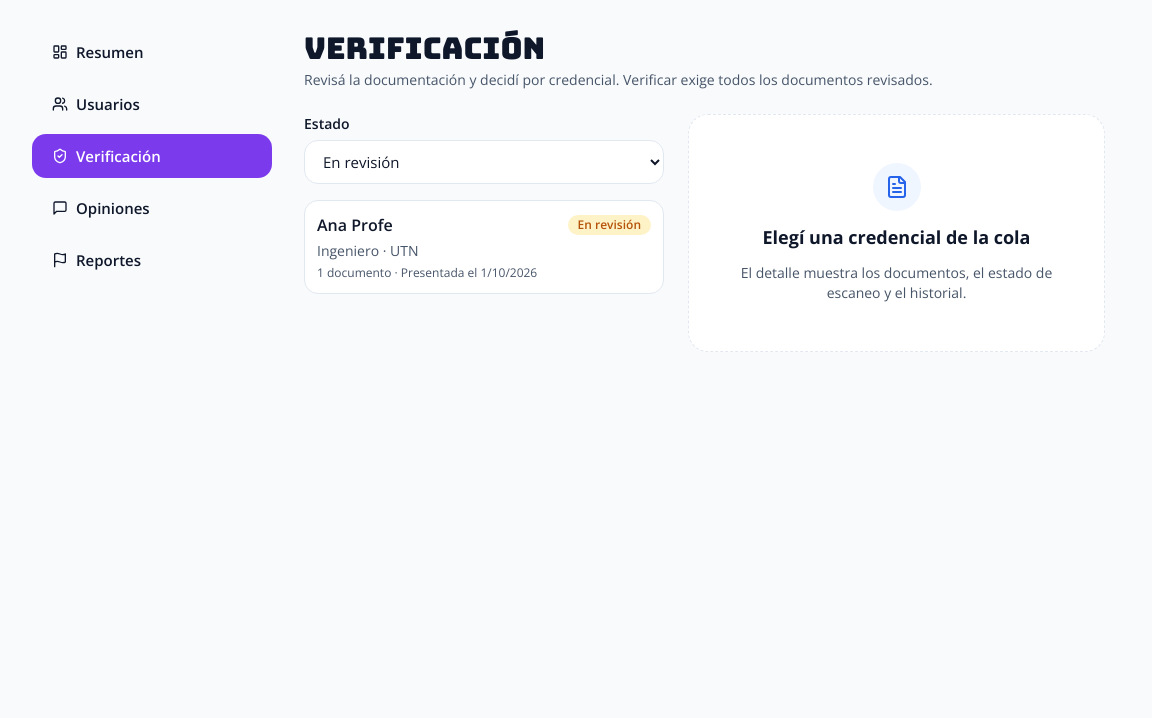
it: AdminVerificationsPage › blocks VERIFIED while a document is unreviewed
This screenshot has width=1152, height=718.
Click the button "Ana Profe" at x=355, y=225, box x1=304 y1=200 x2=664 y2=294
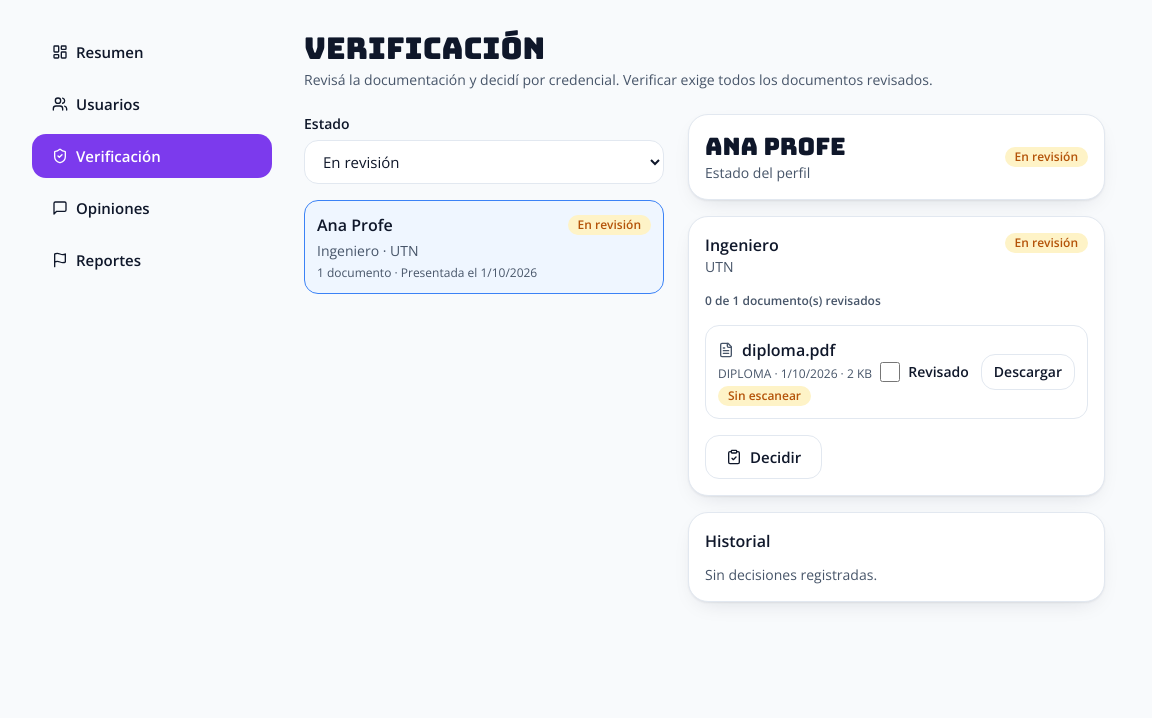
Now the text "diploma.pdf" is shown, box x1=718 y1=339 x2=835 y2=361
Click the button "Decidir" at x=764, y=457, box x1=705 y1=435 x2=822 y2=479
(page scrolled)
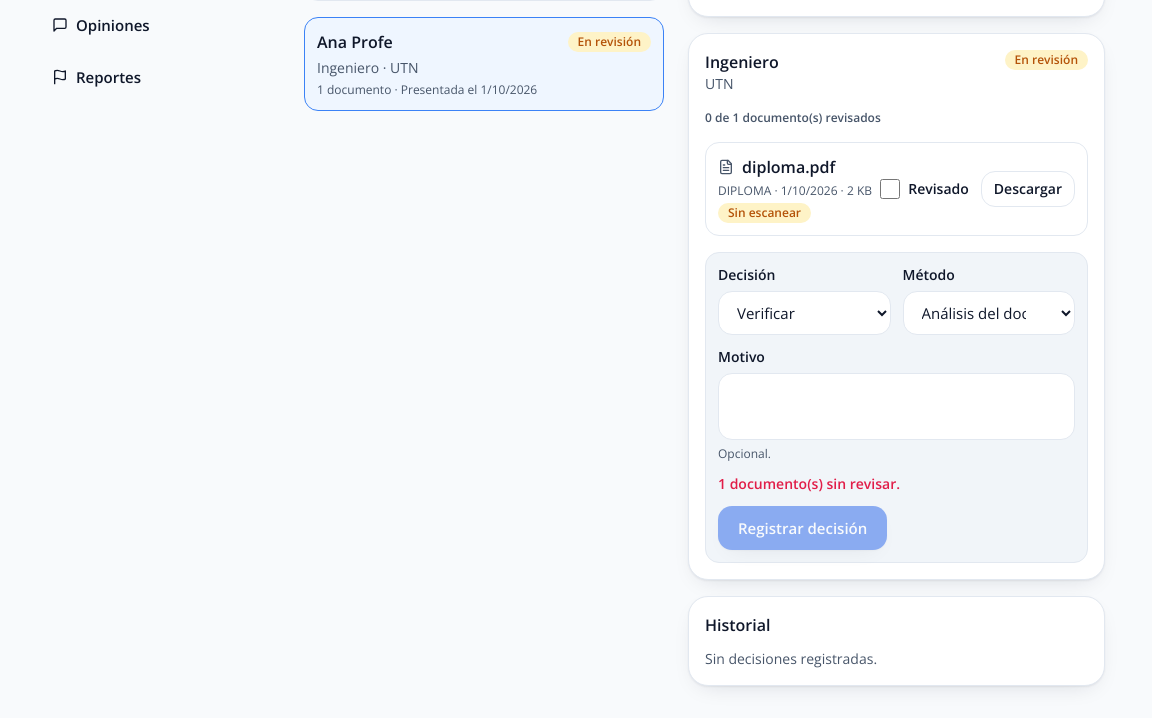
Now the text "1 documento(s) sin revisar." is shown, box x1=718 y1=474 x2=900 y2=493
Now the button "Registrar decisión" is disabled, box x1=718 y1=506 x2=887 y2=550
